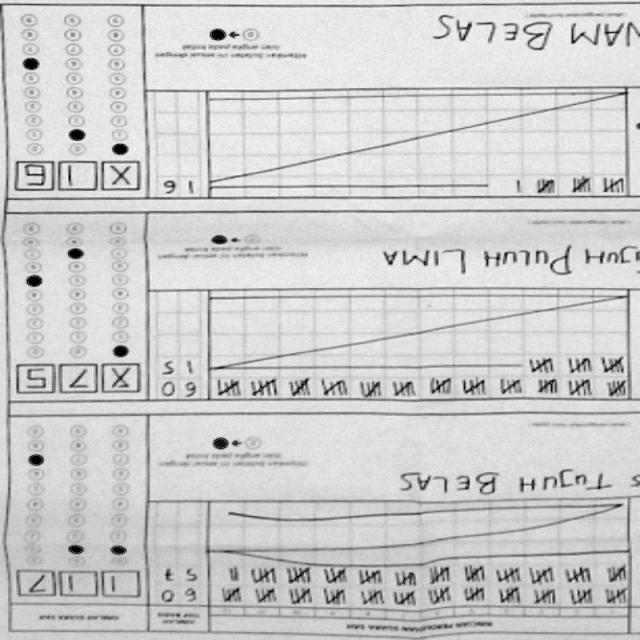Suara: (9, 561, 144, 607), (17, 160, 143, 202), (16, 362, 144, 397)
